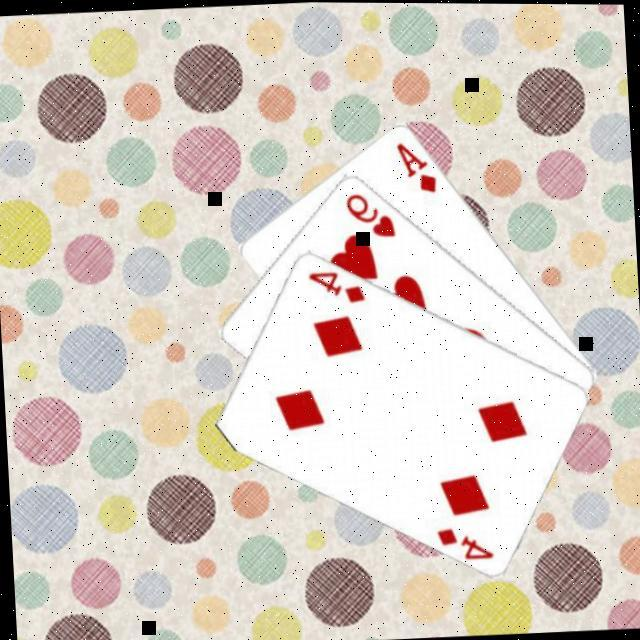4D: (431, 521, 495, 563), (303, 264, 367, 305)
9H: (339, 185, 397, 240)
AD: (391, 135, 439, 195)
